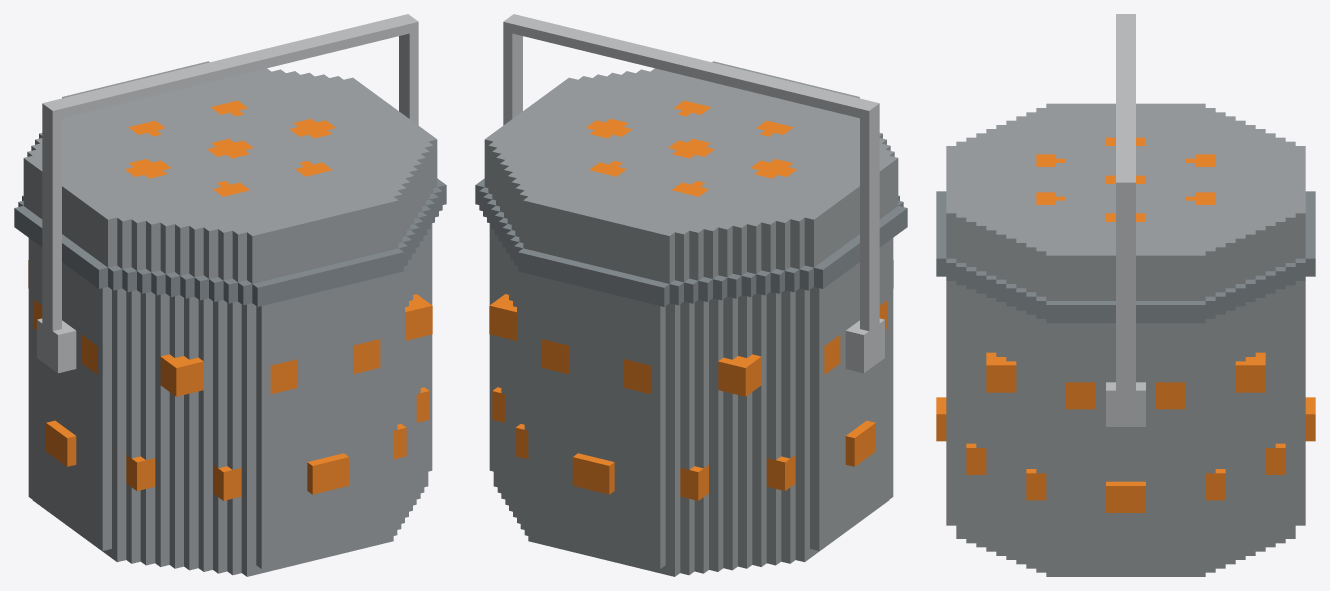
File: tinderbox_on.glb
The picture shows the model from 3 angles, left to right: view 1: azimuth 30°, elevation 25°; view 2: azimuth 150°, elevation 25°; view 3: azimuth 270°, elevation 25°; orthographic projection. The views are drawn at different scales.
Visible parts, largest first — view 1: tinderbox_on:compound; view 2: tinderbox_on:compound; view 3: tinderbox_on:compound.
Boxes of the visible parts, bbox=[...] form: tinderbox_on:compound: bbox=[14, 14, 446, 576]; tinderbox_on:compound: bbox=[475, 14, 907, 576]; tinderbox_on:compound: bbox=[936, 14, 1315, 576].
Bounding box in the file's own units: 0.08 × 0.09 × 0.076.
